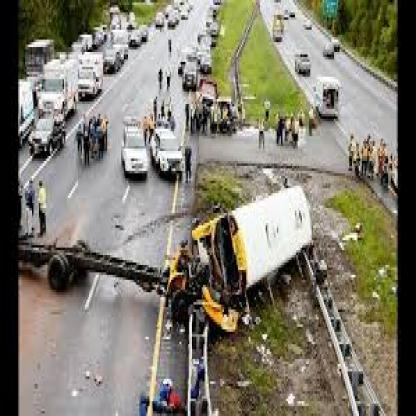accident: (149, 188, 334, 352)
